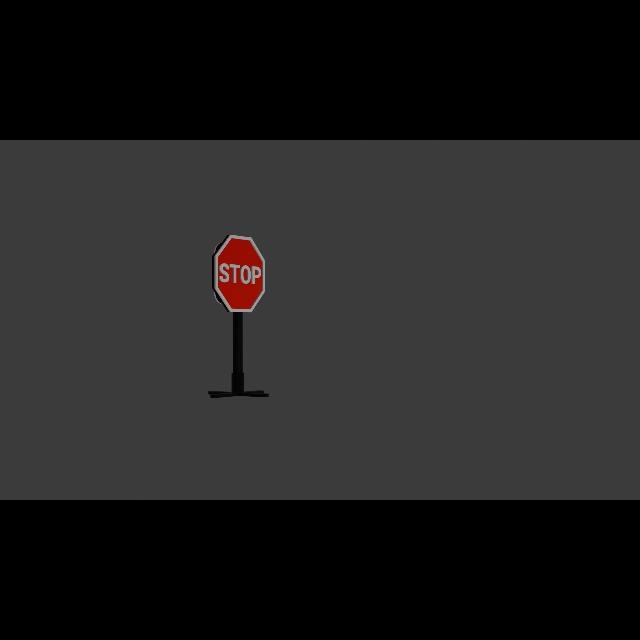sign_stop: (212, 235, 266, 314)
